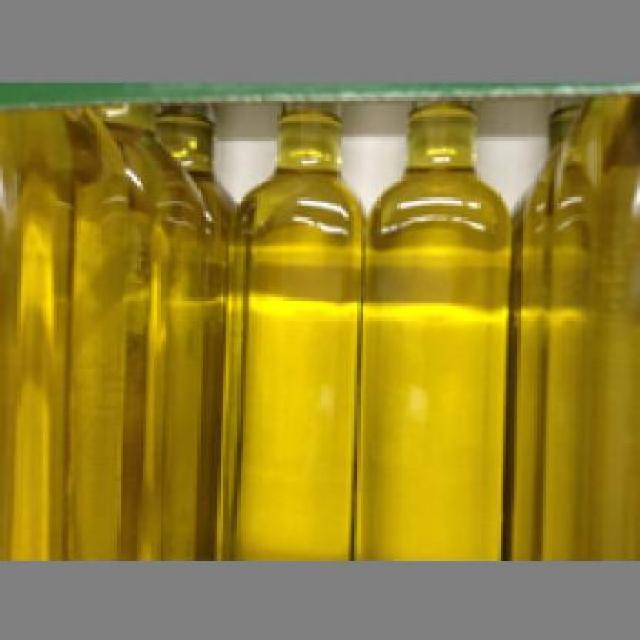Oil: (212, 95, 358, 554), (363, 100, 508, 554)
